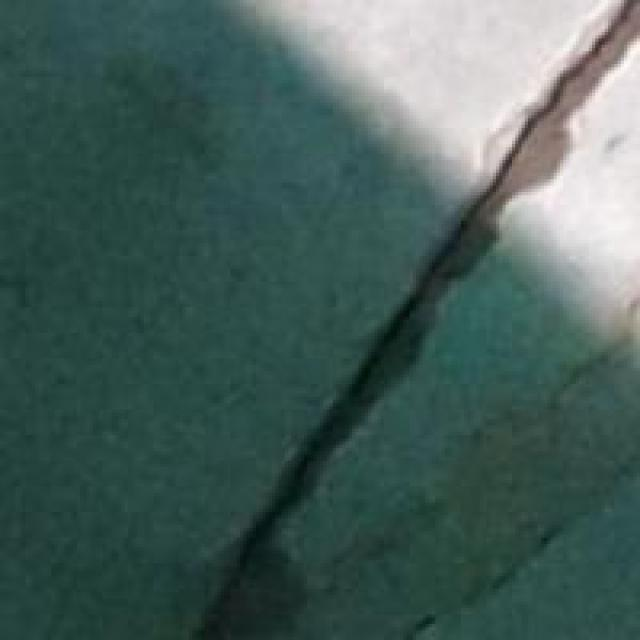crack: (182, 0, 637, 637)
